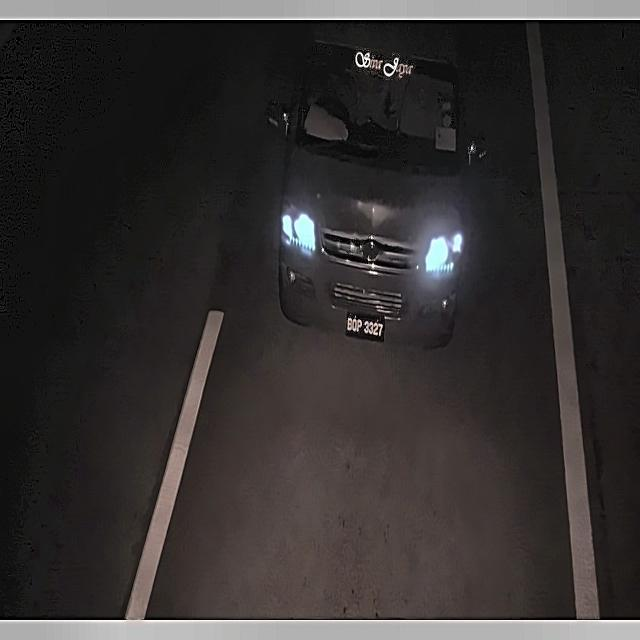car: (342, 306, 394, 352)
